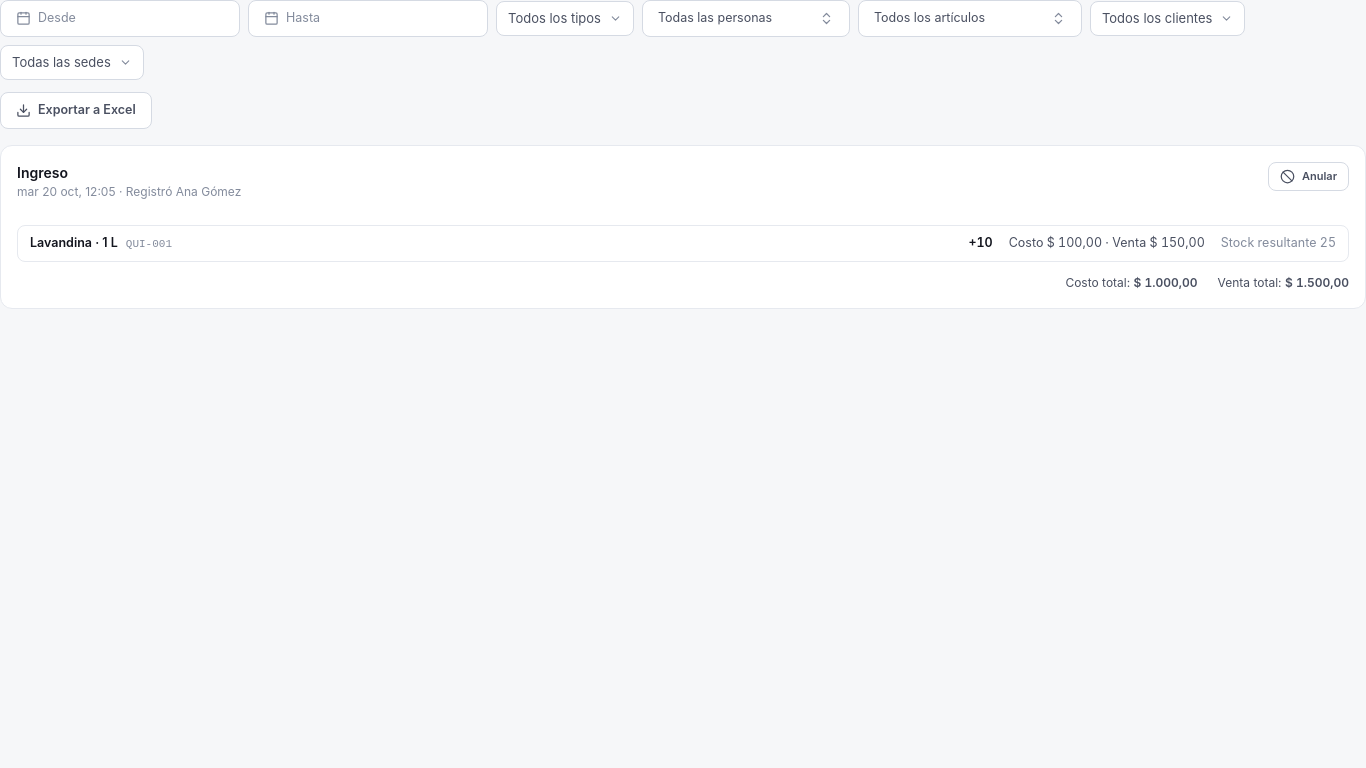
Test: MovementsTab: «Anular» (IS-21, IS-27) › anular un ingreso avisa que se descuenta del stock
Click the button "Anular". click: (1308, 176)
box: [1268,162,1349,190]
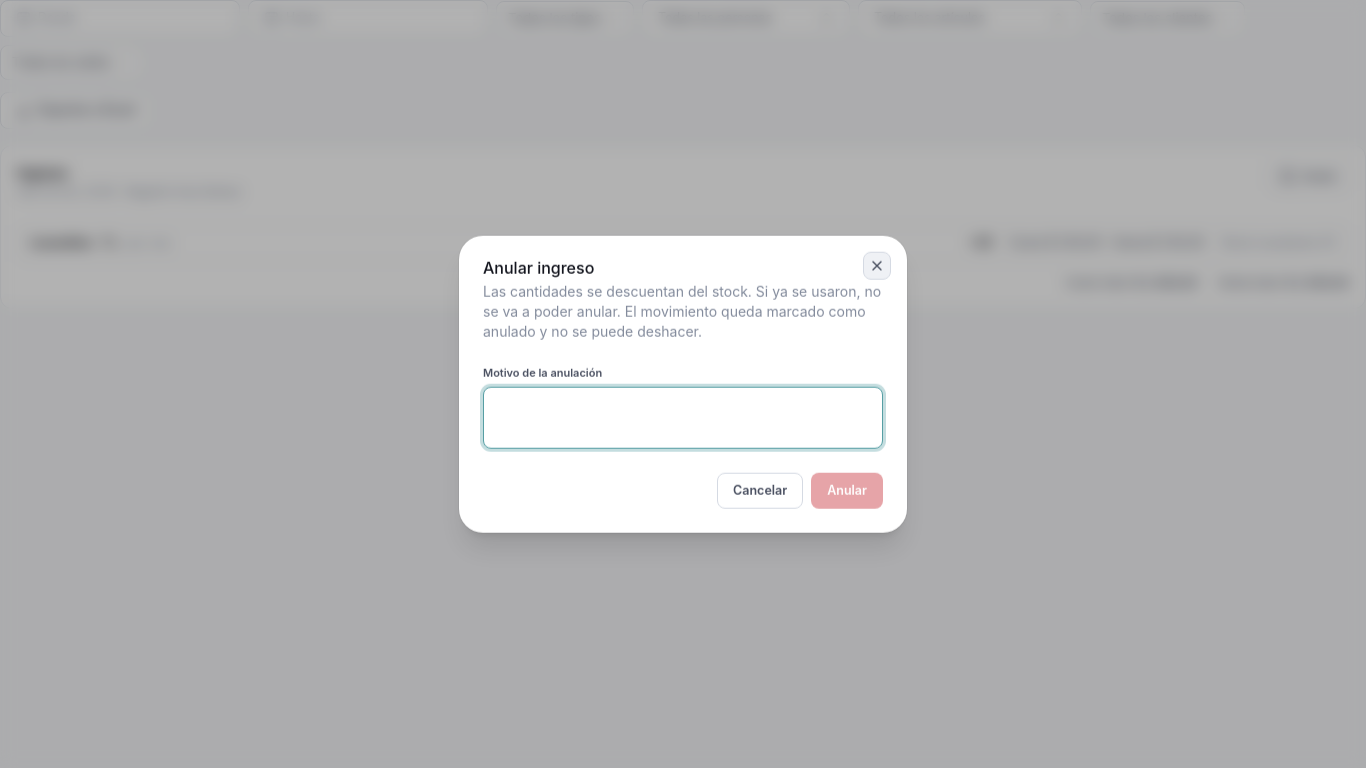
Expected: the text "se descuentan del stock" is shown, [483,283,881,340]
